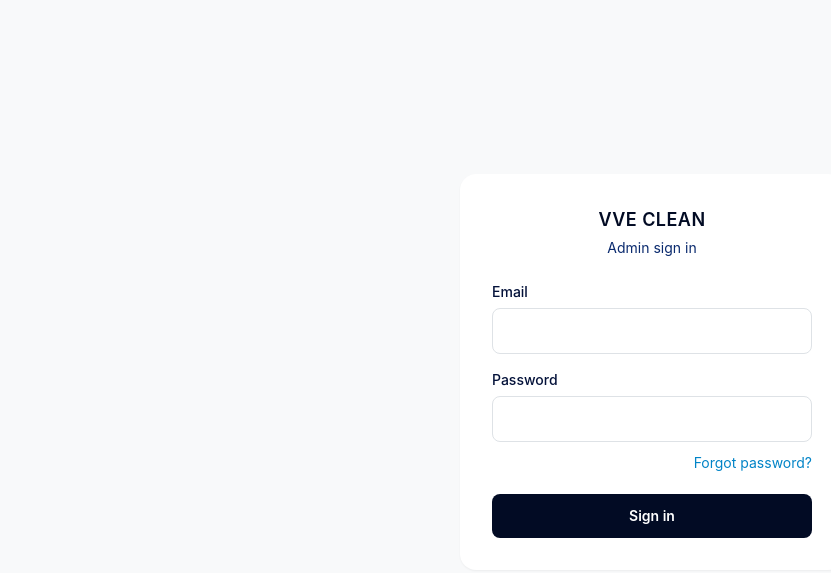
Test: LoginPage › allows retry after a network failure
In the field labelled "Email": (652, 331) top-left (492, 308), bottom-right (812, 354), type "owner@example.com"
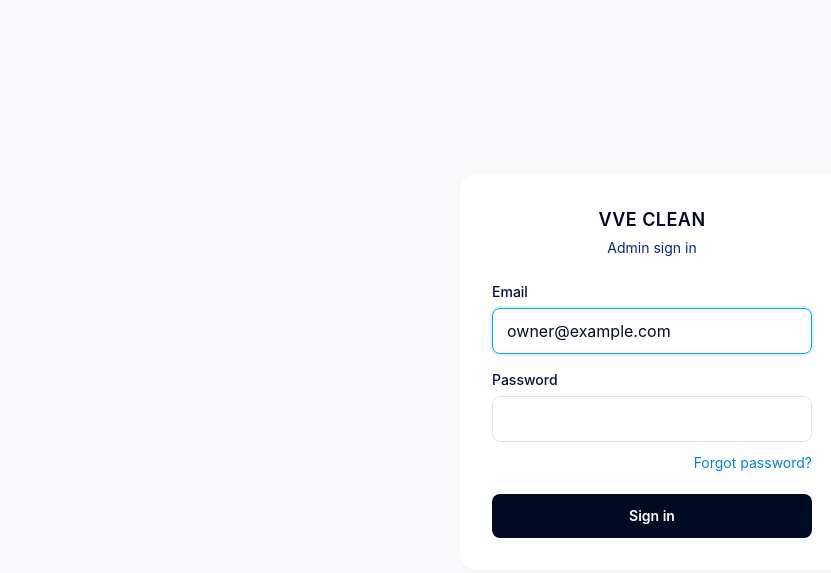
In the password field labelled "Password": (652, 419) top-left (492, 396), bottom-right (812, 442), type "test-password"
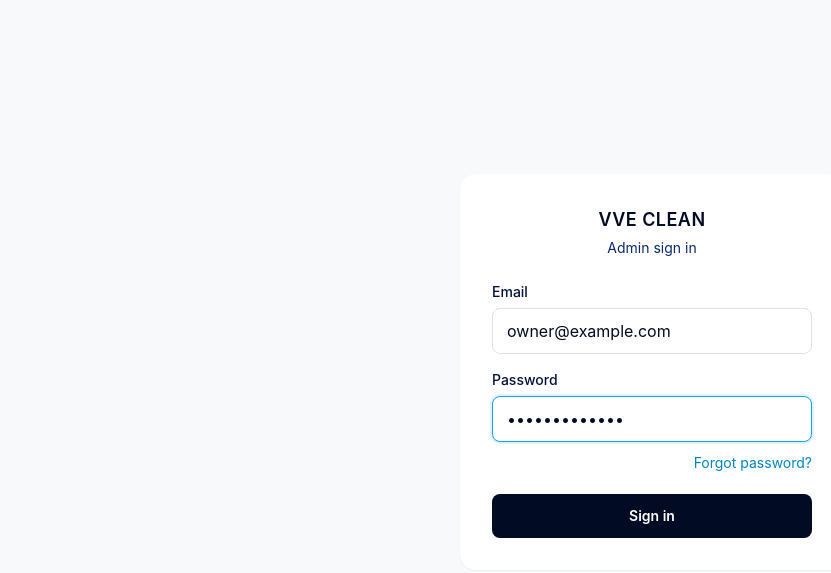
Click the button "Sign in": (652, 516) top-left (492, 494), bottom-right (812, 538)
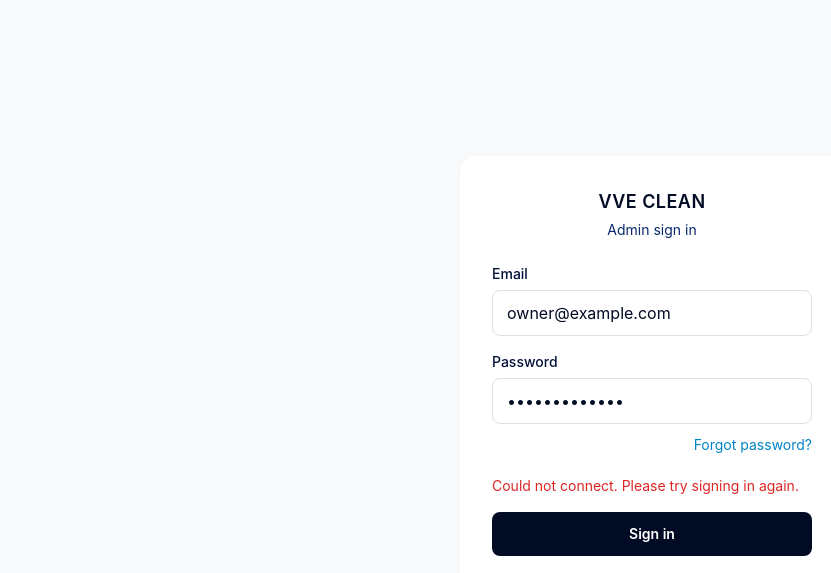
Result: the message shows "Could not connect" at top-left (492, 477), bottom-right (799, 494)
Click the button "Sign in": (652, 534) top-left (492, 512), bottom-right (812, 556)
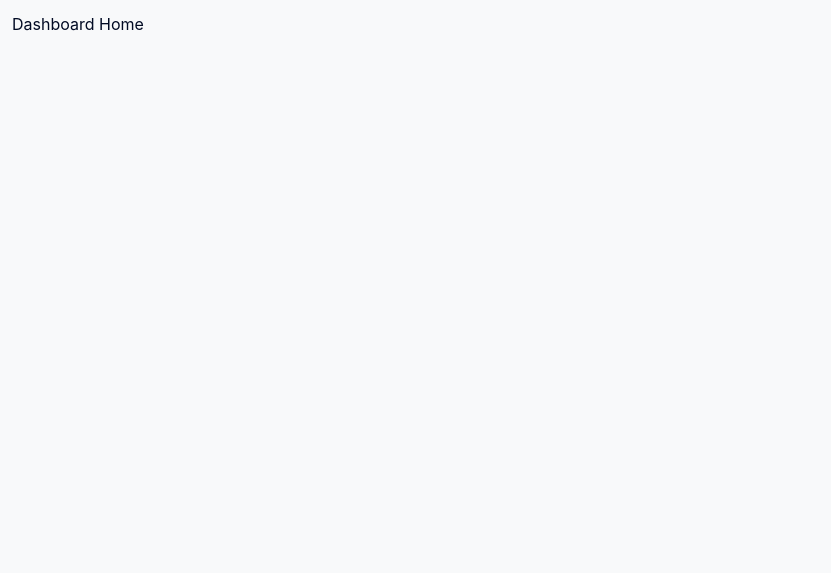
Result: the text "Dashboard Home" is shown at top-left (12, 14), bottom-right (144, 34)
